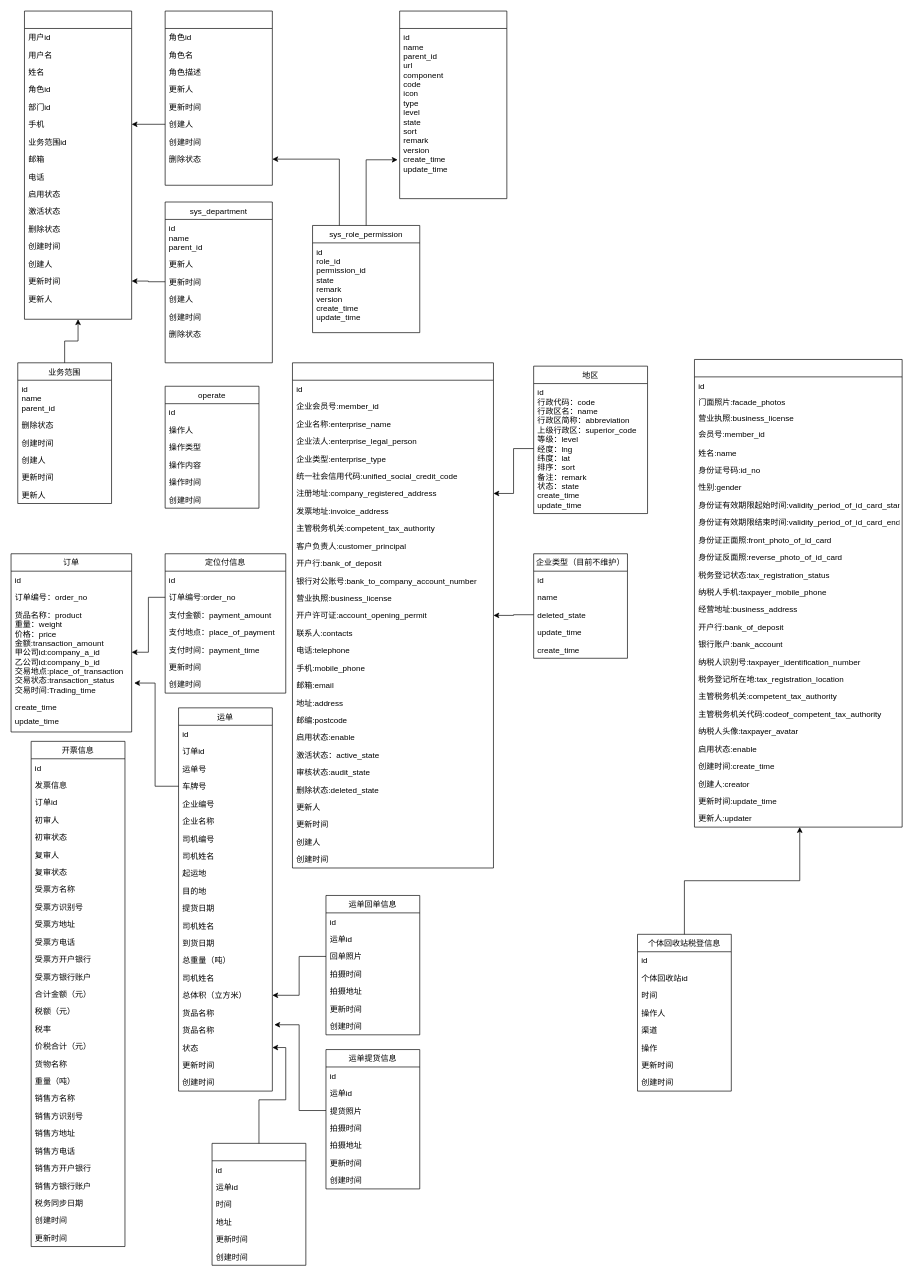
Some shapes in this 914 by 1276 pixel diagram are drawn without their labels. The shapes that lost their labels are listed below. From the top down, each one's box as (x1, y1, x2, y2) in pixels, then its label:
(164, 10, 272, 185): sys_role
(399, 10, 507, 199): sys_permission
(24, 10, 132, 319): sys_user
(694, 359, 902, 827): 个体回收站
(292, 362, 493, 868): 企业
(211, 1143, 306, 1265): 运单实时路途信息
